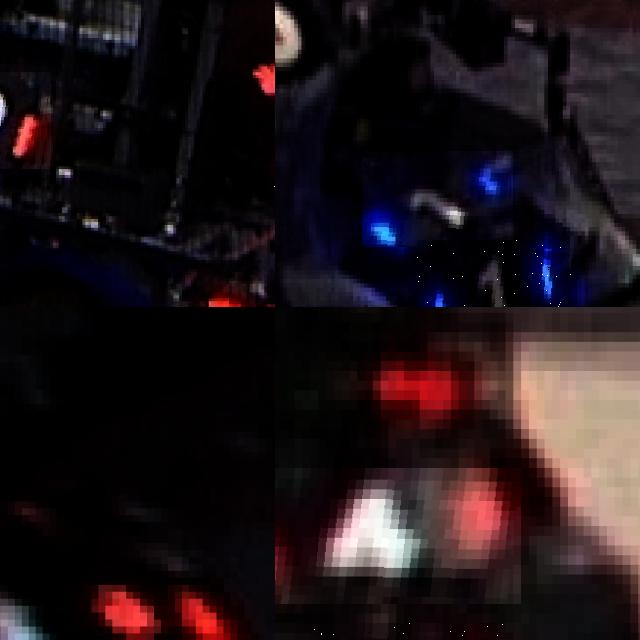B1: (362, 151, 513, 247), (417, 240, 571, 307)
R2: (0, 72, 51, 169)
R4: (275, 468, 521, 604)
